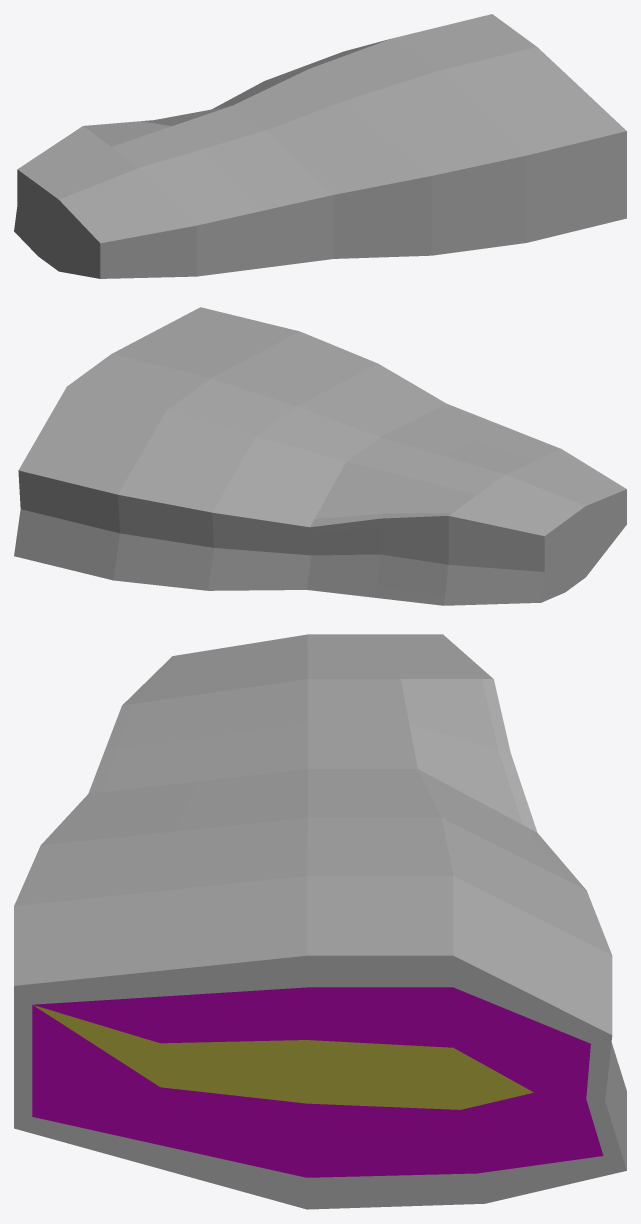
File: guanciale.fbx
3 renders of one model, top to bottom at view 1: azimuth 30°, elevation 25°; view 2: azimuth 150°, elevation 25°; view 3: azimuth 270°, elevation 25°, orthographic. The views are drawn at different scales.
Visible parts, largest first — view 1: obj0; view 2: obj0; view 3: obj0.
Part boxes in pixels (<box>): obj0: <box>14,14,626,278</box>; obj0: <box>14,307,626,605</box>; obj0: <box>14,634,626,1209</box>.
Bounding box in the file's own units: 0.0344 × 0.0107 × 0.0234.
